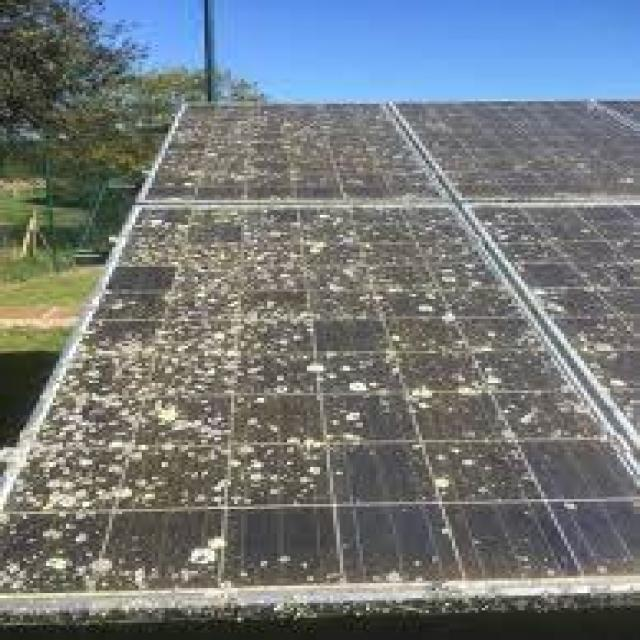faulty: (0, 204, 625, 606), (475, 209, 640, 446), (136, 107, 453, 203), (396, 97, 638, 206)
